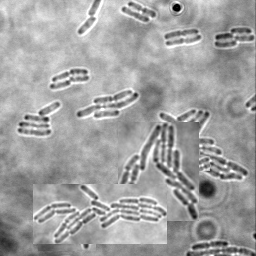Dividing: (52, 67, 89, 81), (128, 1, 157, 18), (166, 34, 202, 47), (164, 28, 200, 39), (192, 239, 229, 249)
Microcolony: (33, 184, 167, 244), (118, 122, 199, 221), (158, 109, 249, 180), (38, 217, 96, 251), (76, 88, 139, 119), (18, 101, 61, 136), (214, 27, 255, 48)
Rod: (121, 5, 150, 23), (78, 16, 99, 34), (186, 156, 210, 171), (50, 79, 72, 89), (69, 73, 90, 82)
